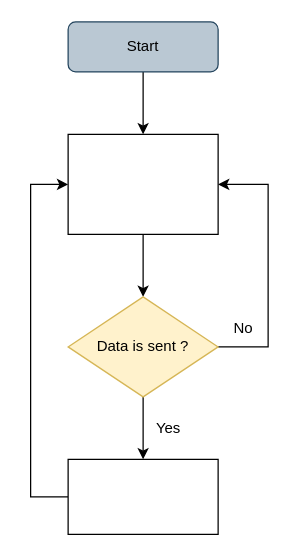
The diagram is 300 pixels wide and 556 high, and some of its shapes have lost their labels. Each missing label, with the centre of its shape:
Fetch the data and handling errors: (142,496)
Listen to communication from the edge server from specific IP: (142,183)
